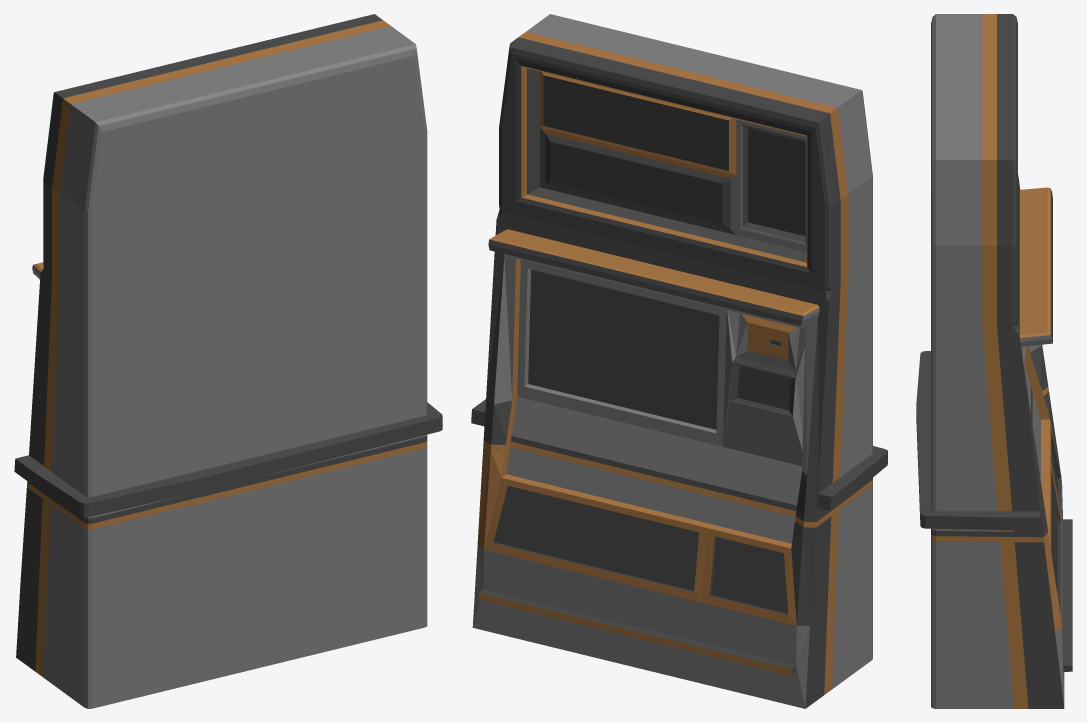
Rendered from SM_Terminal.fbx.
The picture shows the model from 3 angles, left to right: view 1: azimuth 30°, elevation 25°; view 2: azimuth 150°, elevation 25°; view 3: azimuth 270°, elevation 25°; orthographic projection. The views are drawn at different scales.
Visible parts, largest first — view 1: SM_Terminal; view 2: SM_Terminal; view 3: SM_Terminal.
Part boxes in pixels (box(x1,y1,x2,y2)): SM_Terminal: box(14, 14, 442, 708); SM_Terminal: box(471, 14, 887, 708); SM_Terminal: box(916, 14, 1072, 708).
Size of the model in its own units: 1.19 by 1.8 by 0.4691.
